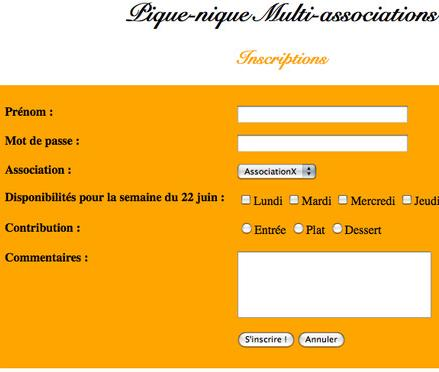button: (239, 332, 294, 347), (300, 333, 344, 348)
checkbox: (290, 193, 301, 206), (402, 193, 412, 206), (242, 194, 252, 206), (339, 194, 349, 206)
checkbox_with_label: (337, 193, 396, 208), (289, 191, 333, 208), (240, 193, 283, 207)
field: (234, 251, 432, 318), (234, 134, 408, 152), (234, 105, 407, 123), (236, 164, 316, 179)
field_with_label: (3, 132, 411, 154), (4, 104, 410, 126), (6, 162, 318, 181)
radio: (333, 221, 345, 235), (293, 222, 305, 234), (241, 222, 251, 235)
radio_with_label: (331, 219, 382, 237), (239, 220, 286, 237), (290, 220, 325, 237)
